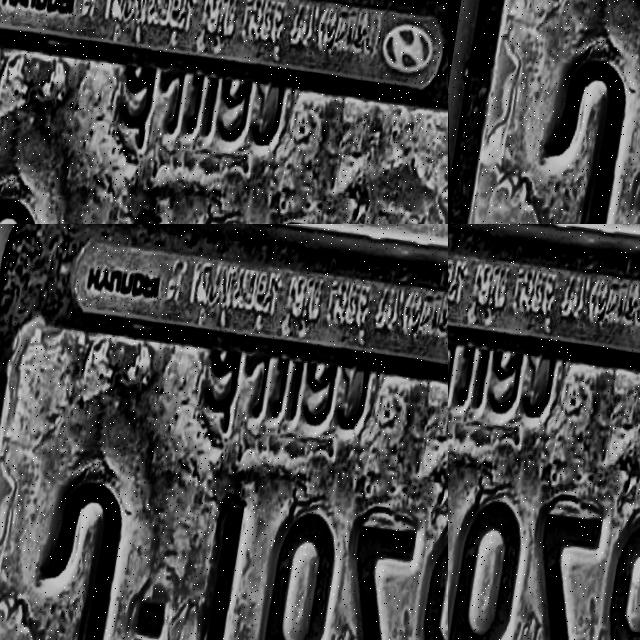license-plate: (448, 224, 640, 640), (448, 125, 640, 224)
